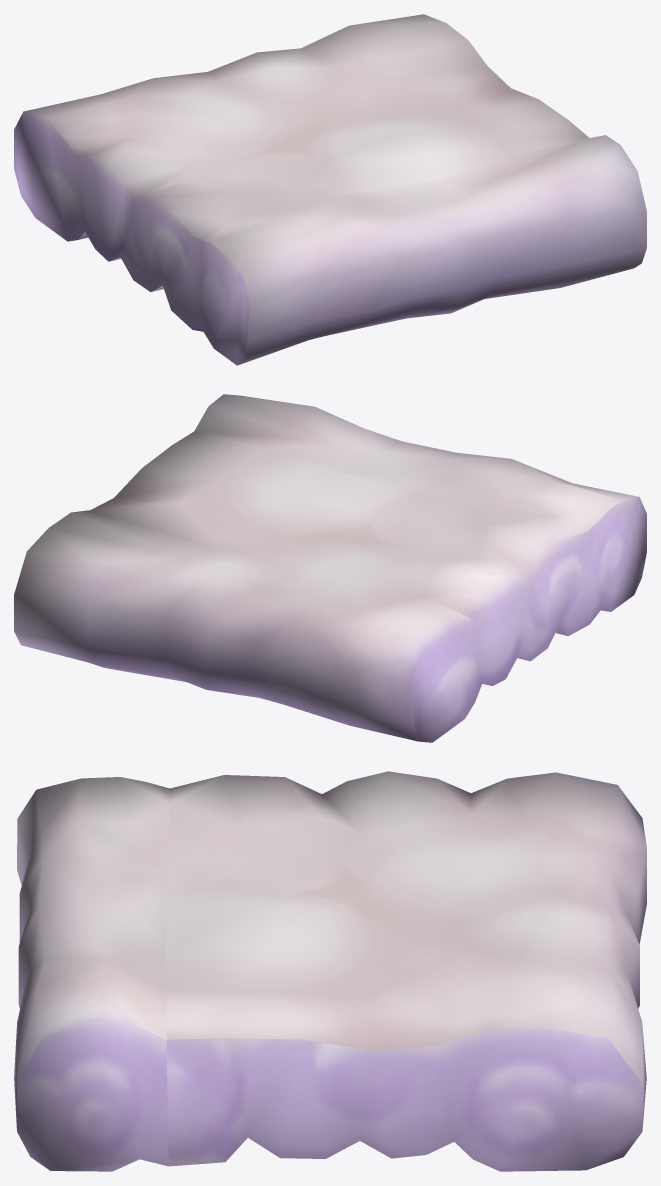
File: scenes_common_cloudroad01c.FBX
3 renders of one model, top to bottom at view 1: azimuth 30°, elevation 25°; view 2: azimuth 150°, elevation 25°; view 3: azimuth 270°, elevation 25°, orthographic. The views are drawn at different scales.
Visible parts, largest first — view 1: scenes_common_cloudroad01c; view 2: scenes_common_cloudroad01c; view 3: scenes_common_cloudroad01c.
Part boxes in pixels (<box>): scenes_common_cloudroad01c: <box>14,14,646,365</box>; scenes_common_cloudroad01c: <box>14,394,646,742</box>; scenes_common_cloudroad01c: <box>14,771,646,1171</box>.
Size of the model in its own units: 400 by 110 by 416.
